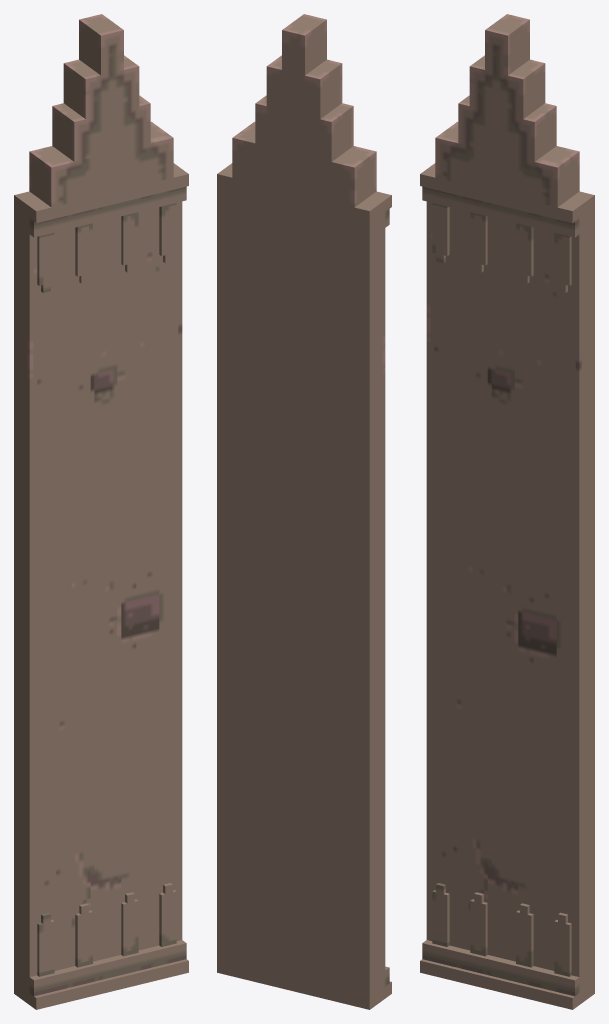
The model's file is Wall_Medium_roof-0.fbx.
3 renders of one model, left to right at view 1: azimuth 30°, elevation 25°; view 2: azimuth 150°, elevation 25°; view 3: azimuth 330°, elevation 25°, orthographic.
Visible parts, largest first — view 1: Wall_Medium_roof-0; view 2: Wall_Medium_roof-0; view 3: Wall_Medium_roof-0.
Boxes of the visible parts, <box> form: Wall_Medium_roof-0: <box>14,14,188,1009</box>; Wall_Medium_roof-0: <box>217,14,391,1009</box>; Wall_Medium_roof-0: <box>420,14,594,1009</box>.
Bounding box in the file's own units: 200 × 1200 × 50.
